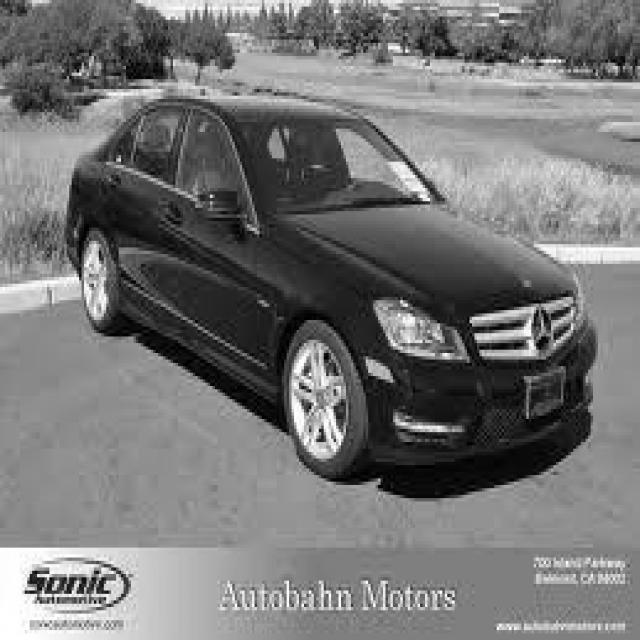car: (62, 89, 595, 482)
